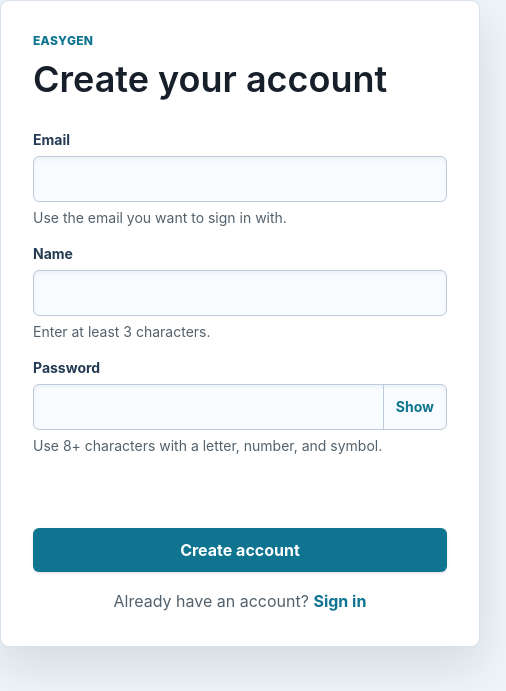
Test: SignupPage › reveals and hides the signup password without submitting
The image size is (506, 691).
Type "Password1!" into the password field labelled "Password".
click(208, 407); type("Password1!")  # box left=34, top=385, right=383, bottom=429
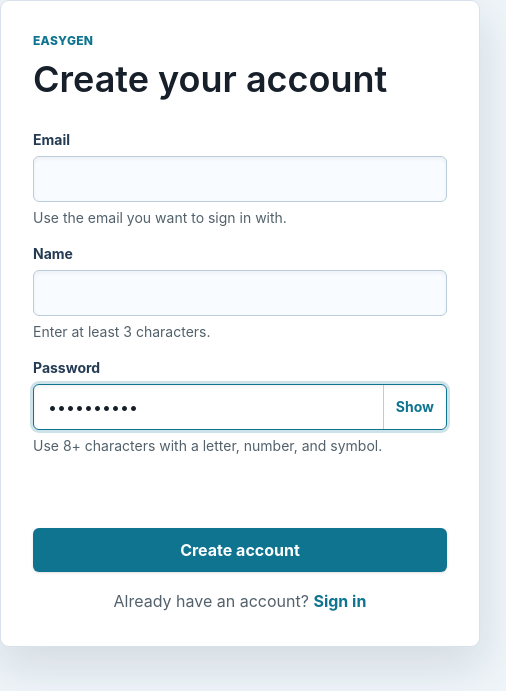
Click the button with aria-label "Show password".
click(414, 407)  # box left=383, top=385, right=446, bottom=429
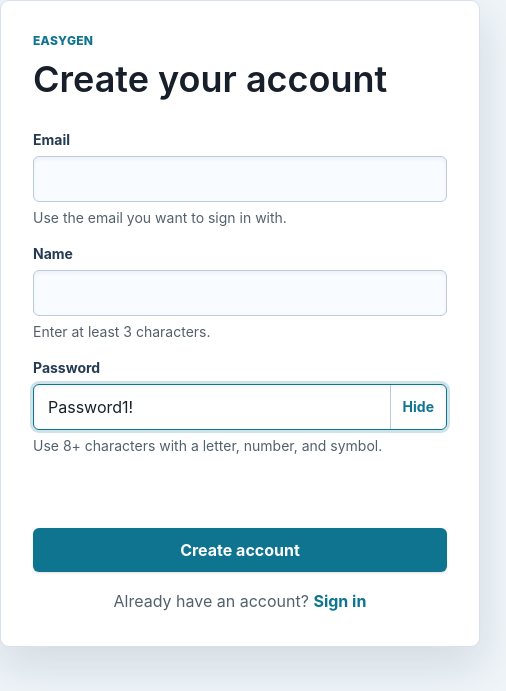
Expected: the field labelled "Password" shows its text, left=34, top=385, right=390, bottom=429
Expected: the button with aria-label "Hide password" is shown
Click the button with aria-label "Hide password".
click(418, 407)  # box left=390, top=385, right=446, bottom=429
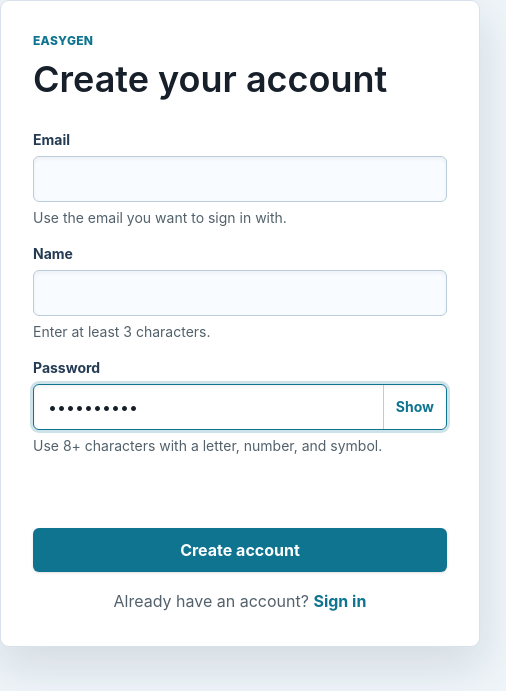
Expected: the password field labelled "Password" hides its text, left=34, top=385, right=383, bottom=429
